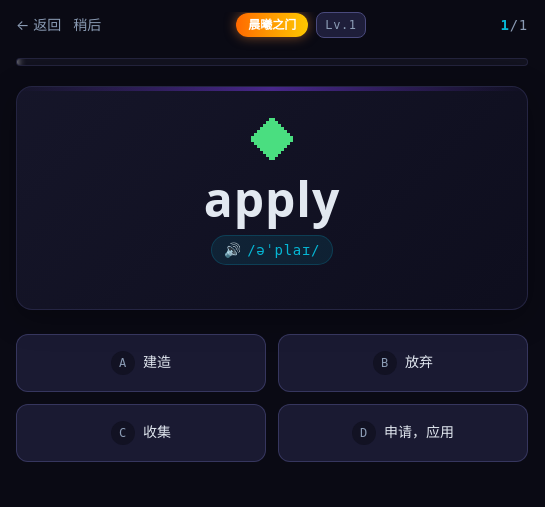
训练主循环 › 延后达到上限时留在训练页并显示原因
Click the button "稍后" at (87, 25), box [73,15,101,35]
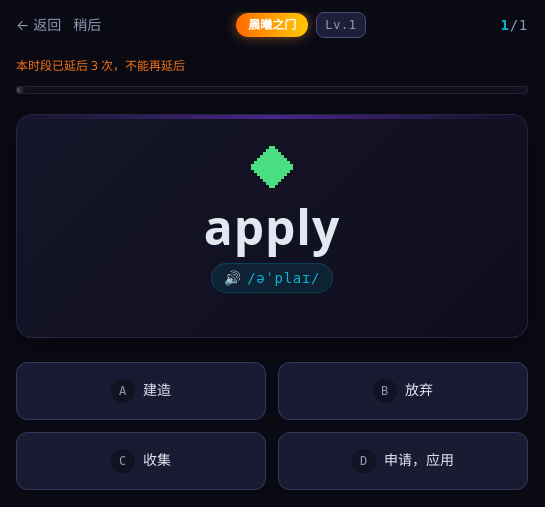
expect the text "Lv." is shown: met, box [325,18,349,32]
expect the text "本时段已延后 3 次，不能再延后" is shown: met, box [16,57,185,74]
